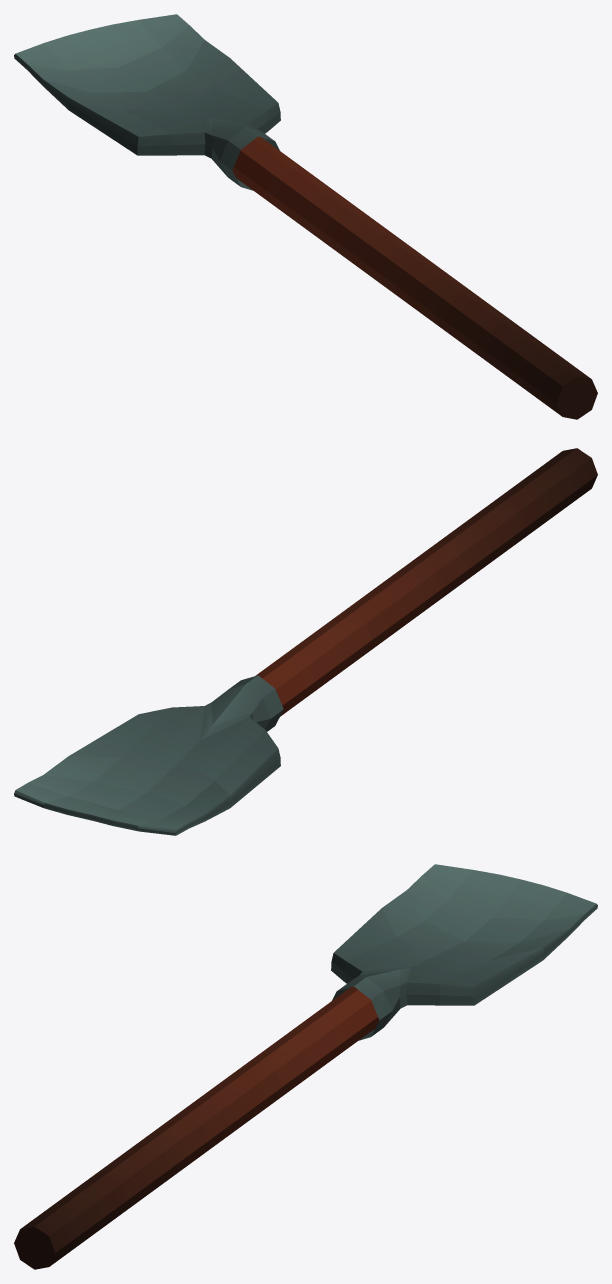
The model's file is FBX_Spade.fbx.
The picture shows the model from 3 angles, top to bottom: view 1: azimuth 30°, elevation 25°; view 2: azimuth 150°, elevation 25°; view 3: azimuth 330°, elevation 25°; orthographic projection.
Parts seen in each view (by area): view 1: M_Spade; view 2: M_Spade; view 3: M_Spade.
Part boxes in pixels (left/top/right/bottom): M_Spade: left=14, top=14, right=597, bottom=419; M_Spade: left=14, top=448, right=597, bottom=835; M_Spade: left=14, top=864, right=597, bottom=1269.
Size of the model in its own units: 0.2759 by 0.0911 by 1.44.
